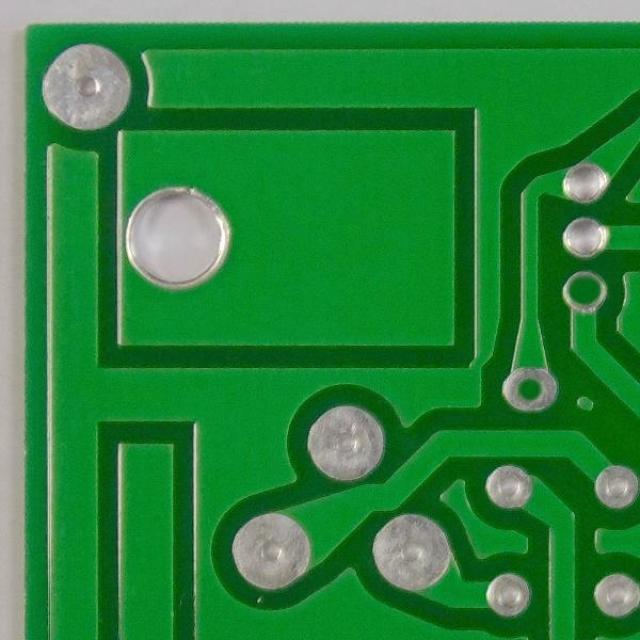Missing_Hole: (496, 363, 563, 415), (558, 268, 611, 314)
